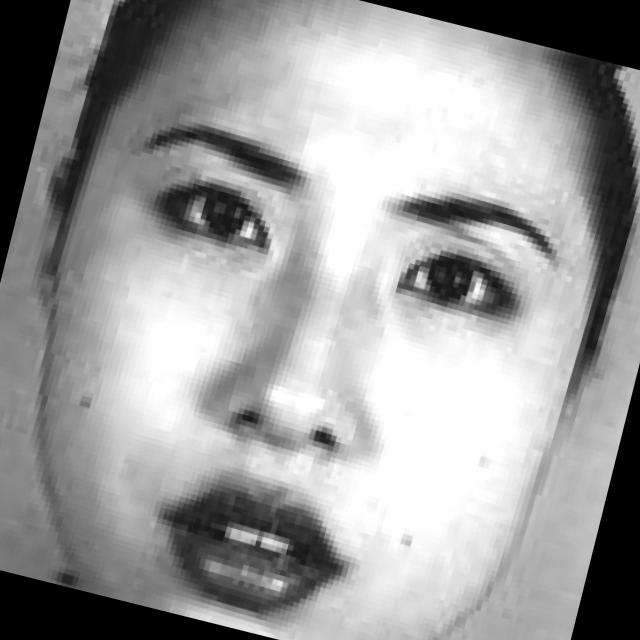fear: (16, 0, 615, 640)
